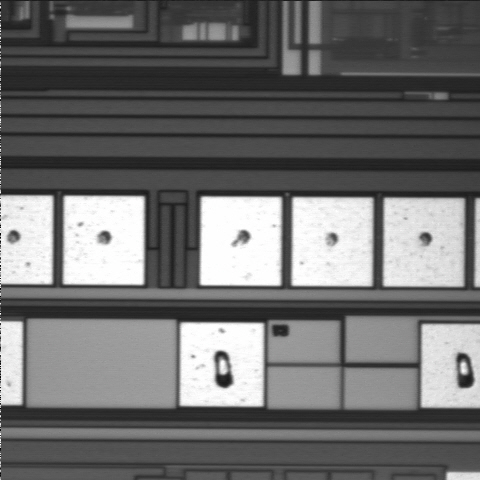pad: (200, 197, 282, 286), (63, 196, 144, 285), (292, 197, 373, 286), (383, 198, 464, 287), (180, 323, 264, 406)
